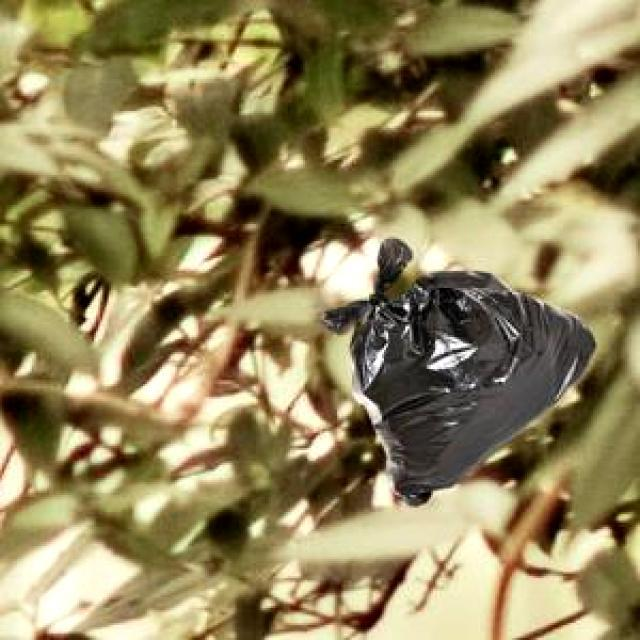Garbage_Bag: (317, 236, 592, 502)
